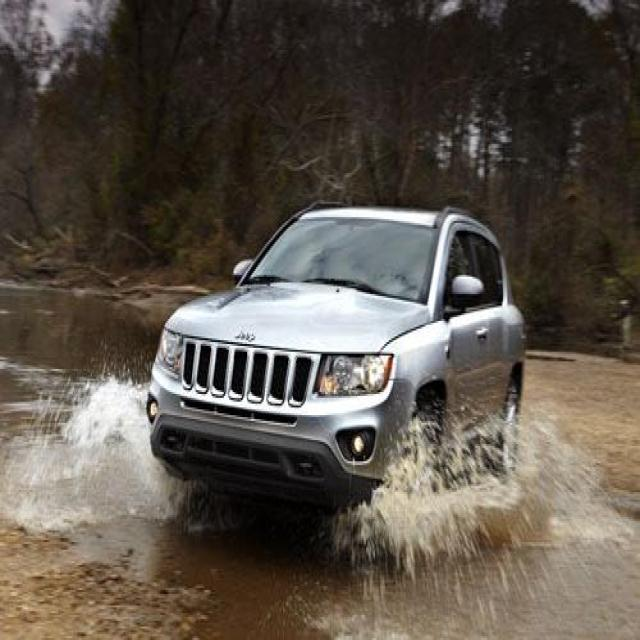Car: (105, 155, 547, 514)
